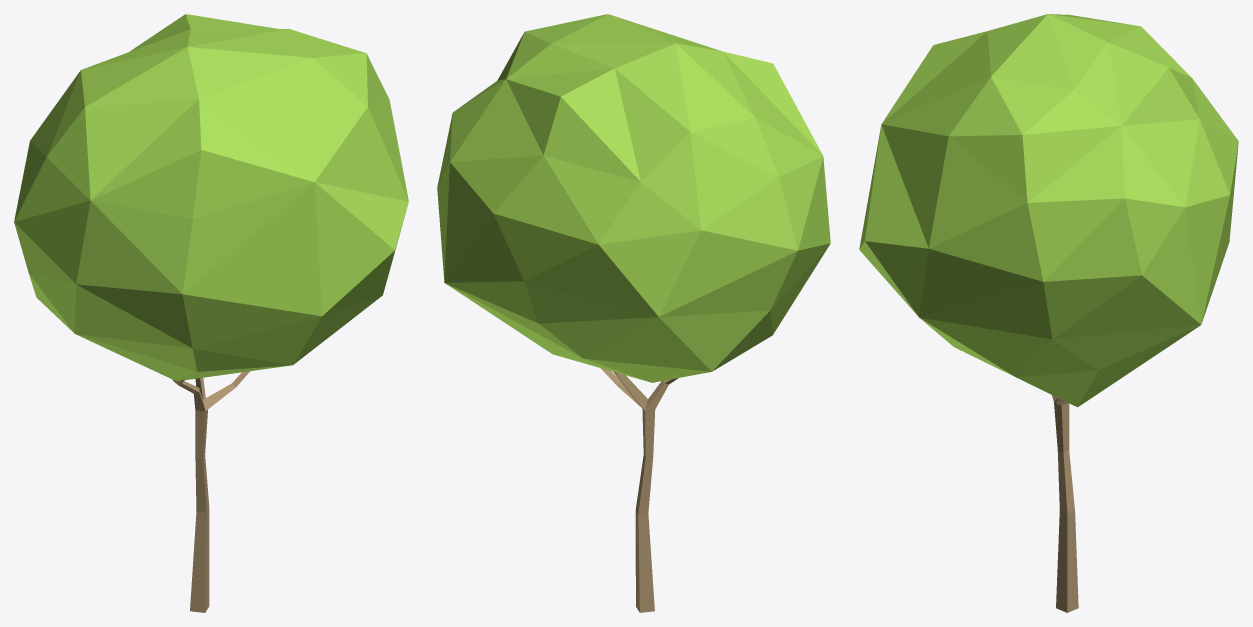
Rendered from Apple_Tree_s_02_LOD.fbx.
3 renders of one model, left to right at view 1: azimuth 30°, elevation 25°; view 2: azimuth 150°, elevation 25°; view 3: azimuth 270°, elevation 25°, orthographic. The views are drawn at different scales.
Parts seen in each view (by area): view 1: Apple_Tree_s_02_LOD0; view 2: Apple_Tree_s_02_LOD0; view 3: Apple_Tree_s_02_LOD0.
Part boxes in pixels (x1=…): Apple_Tree_s_02_LOD0: x1=14, y1=14, x2=408, y2=612; Apple_Tree_s_02_LOD0: x1=437, y1=14, x2=830, y2=612; Apple_Tree_s_02_LOD0: x1=859, y1=14, x2=1238, y2=612.
Size of what is drawn, in the model's own units: 223 by 340 by 201.
